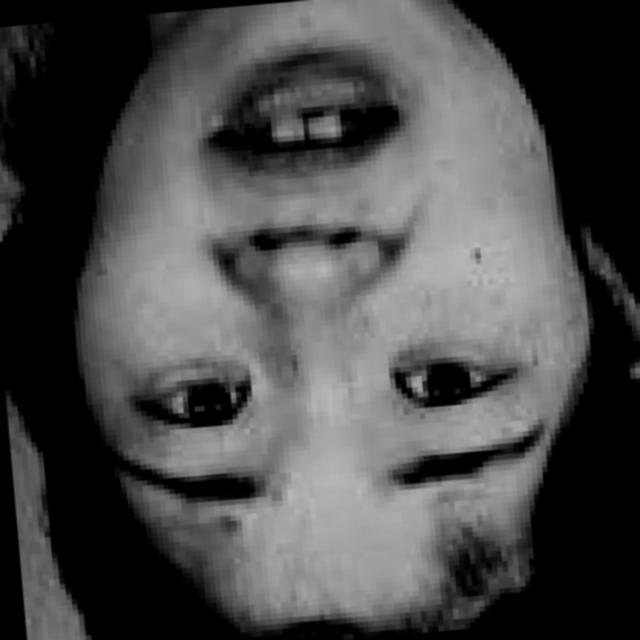fear: (43, 0, 572, 598)
